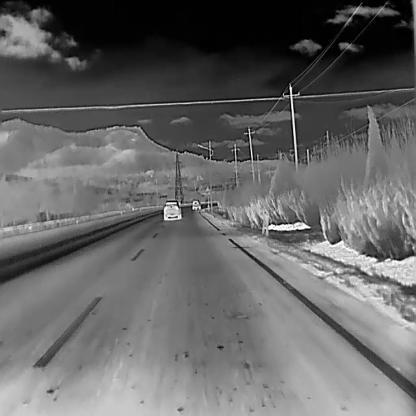car: (161, 200, 182, 220), (191, 198, 200, 210)
